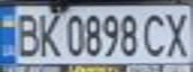0: (63, 11, 84, 57)
8: (118, 10, 142, 58), (81, 10, 103, 58)
9: (100, 11, 121, 57)
B: (9, 9, 42, 58)
C: (139, 10, 169, 58)
K: (33, 9, 63, 58)
X: (163, 9, 193, 58)
